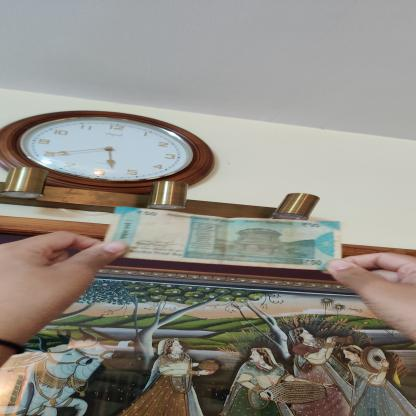New50Back: (102, 206, 343, 270)
